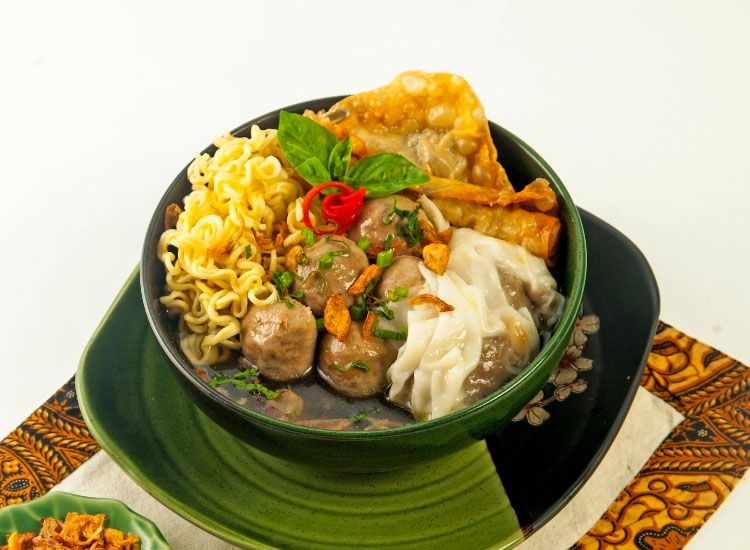bakso_malang: (159, 71, 566, 427)
